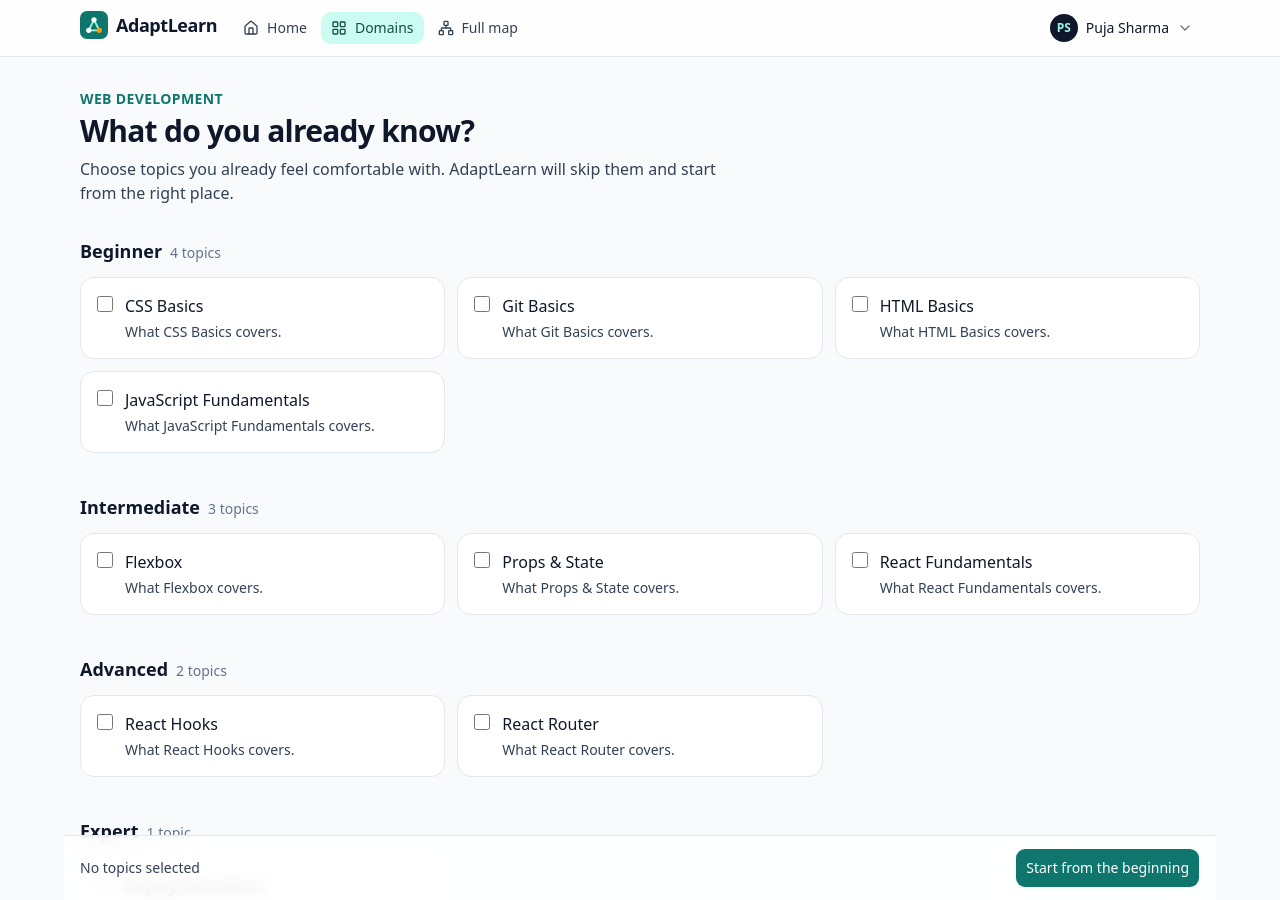
choosing topics › counts a selection and updates the button
Click the checkbox labelled "HTML Basics": (860, 304) [852, 296, 868, 312]
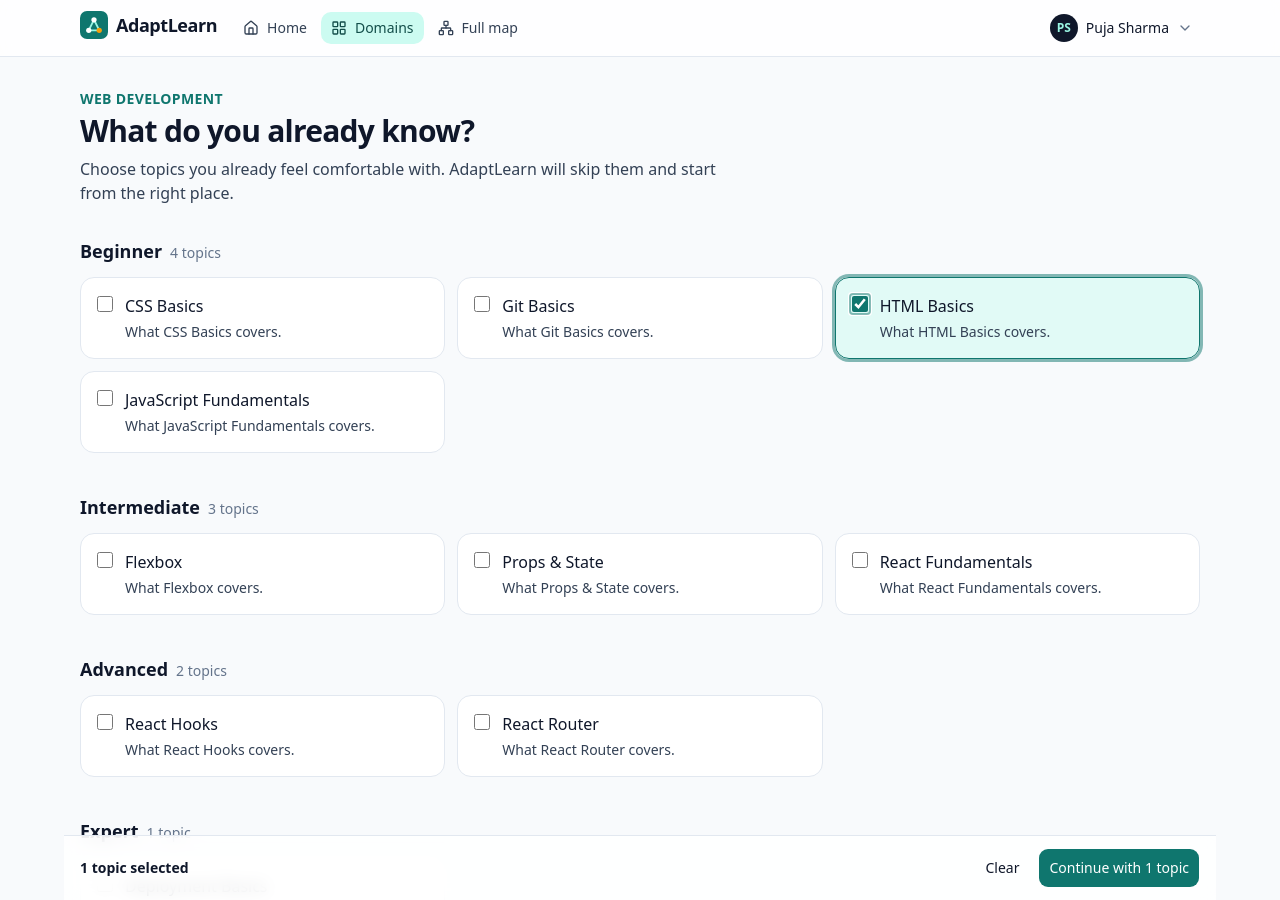
Result: the checkbox labelled "HTML Basics" is checked at [852, 296, 868, 312]
Result: the element showing "1 topic selected" is shown at [80, 858, 189, 878]
Result: the button "Continue with 1 topic" is shown at [1038, 848, 1200, 888]
